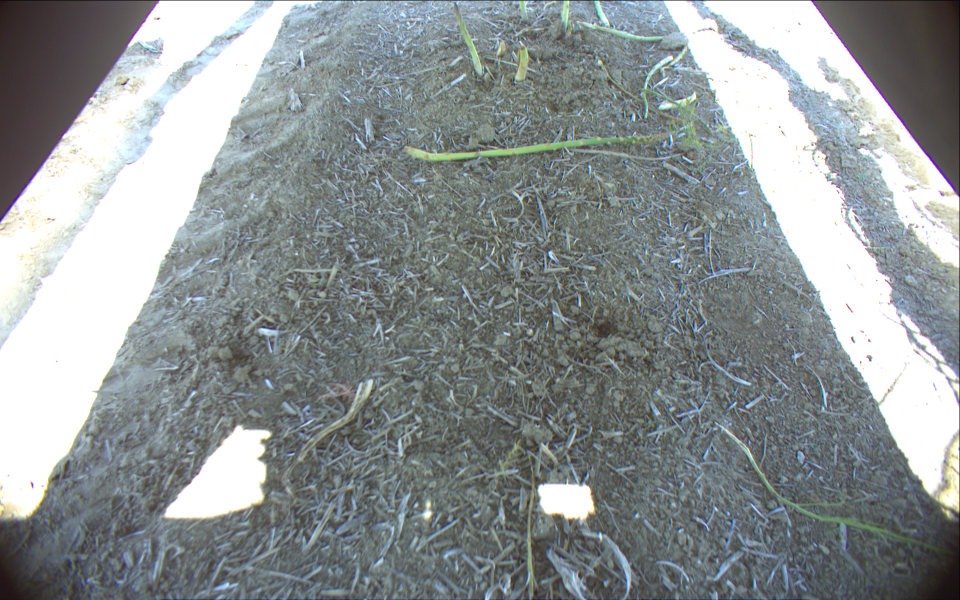aspa: (447, 1, 485, 75), (560, 1, 572, 33), (512, 1, 529, 23)
